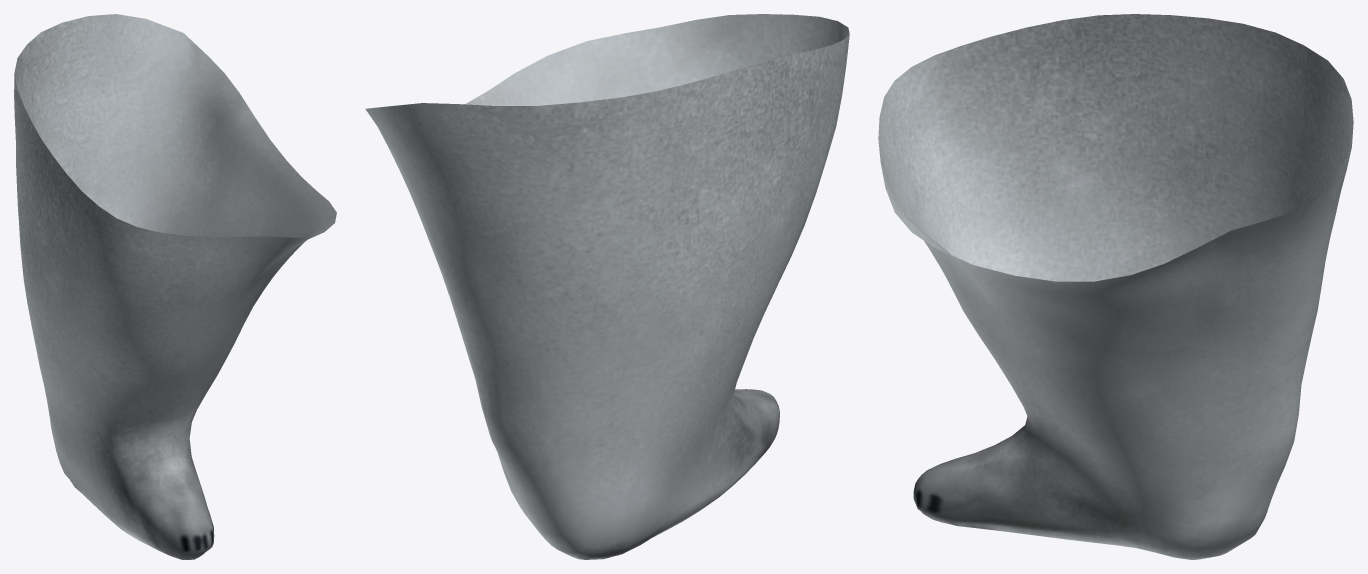
File: Polar_Bear_BR_Leg.obj
3 renders of one model, left to right at view 1: azimuth 30°, elevation 25°; view 2: azimuth 150°, elevation 25°; view 3: azimuth 270°, elevation 25°, orthographic. The views are drawn at different scales.
Parts seen in each view (by area): view 1: Polar_Bear_Quad.004; view 2: Polar_Bear_Quad.004; view 3: Polar_Bear_Quad.004.
Boxes of the visible parts, x1,y1,x2,y2 form: Polar_Bear_Quad.004: (14, 14, 336, 559); Polar_Bear_Quad.004: (365, 14, 849, 559); Polar_Bear_Quad.004: (878, 14, 1353, 559).
Bounding box in the file's own units: 0.4893 × 0.7289 × 0.6503.
